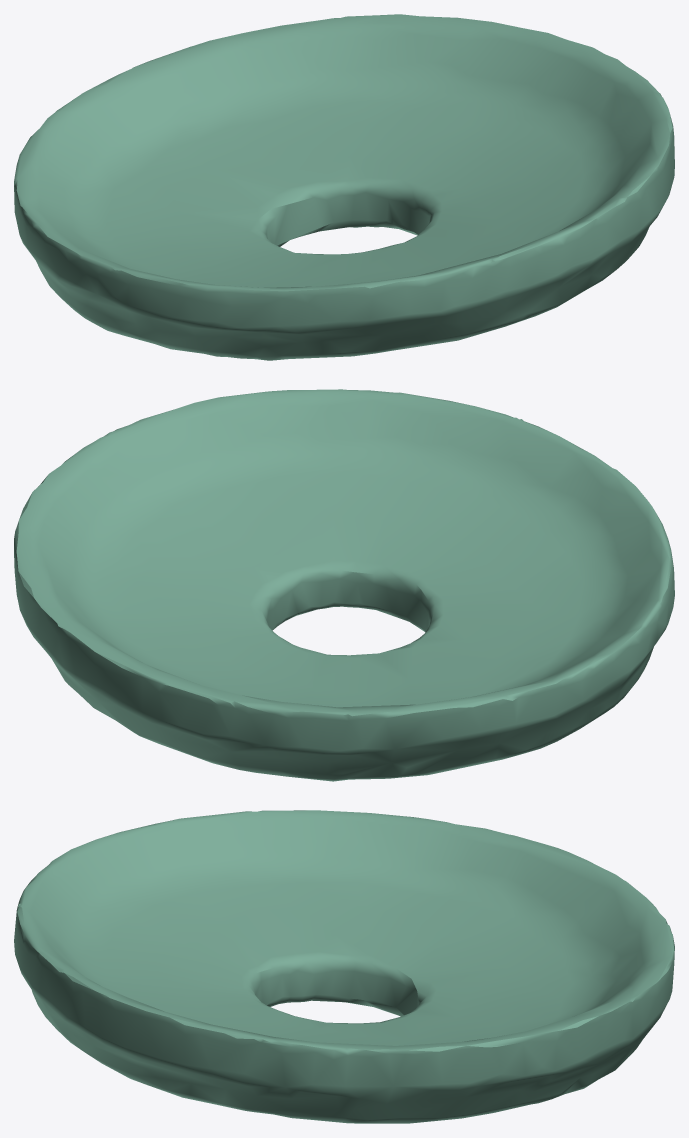
The picture shows the model from 3 angles, top to bottom: view 1: azimuth 30°, elevation 25°; view 2: azimuth 150°, elevation 25°; view 3: azimuth 270°, elevation 25°; orthographic projection.
Parts seen in each view (by area): view 1: 左侧虹膜; view 2: 左侧虹膜; view 3: 左侧虹膜.
Part boxes in pixels (box(x1,y1,x2,y2)): 左侧虹膜: box(14, 14, 674, 360); 左侧虹膜: box(14, 389, 674, 781); 左侧虹膜: box(14, 810, 674, 1123).
Size of the model in its own units: 0.0189 by 0.00475 by 0.019.
